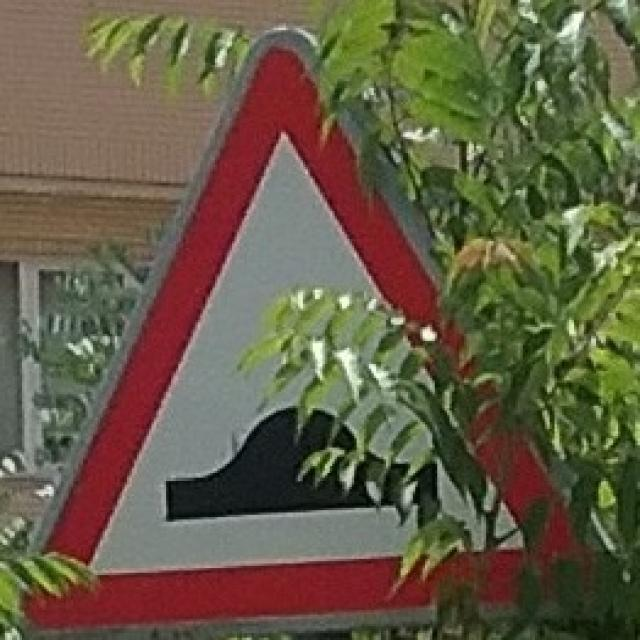HUMP_OR_ROUGH_ROAD: (21, 29, 612, 636)
